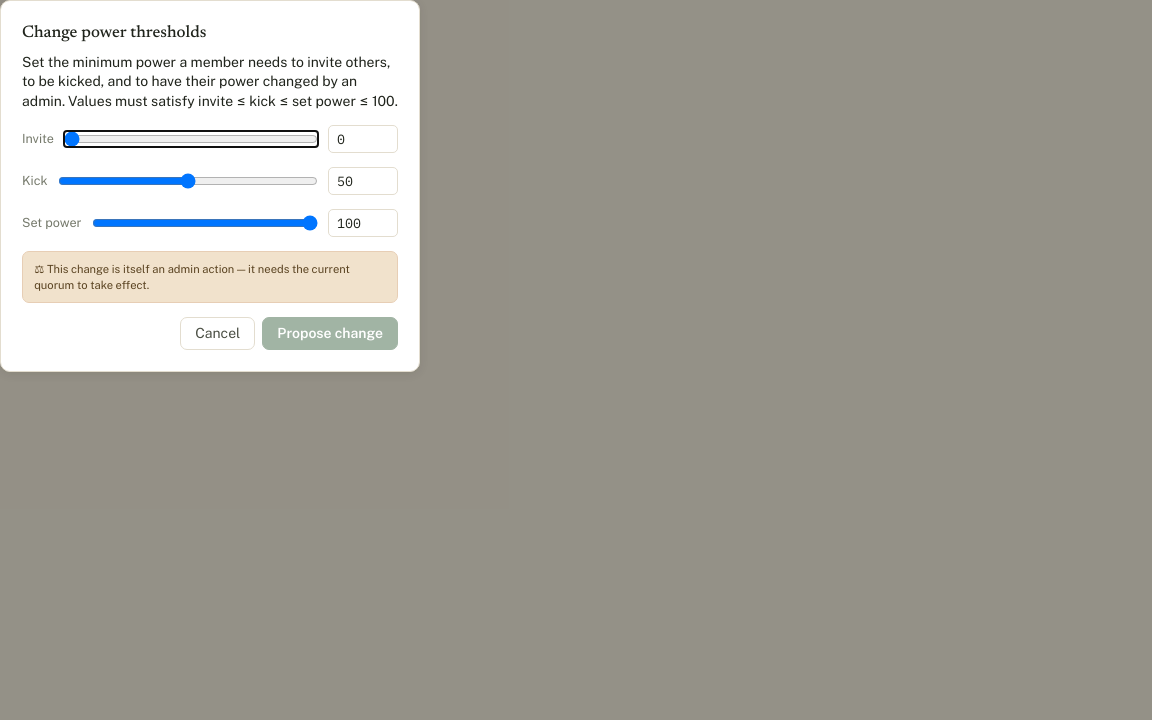
ChangeThresholdsDialog › slider_and_number_input_sync_bidirectionally
# Change slider → number input updates.
Set the slider named "Invite threshold slider" to "10" at (96, 139), box [64,131,318,147]
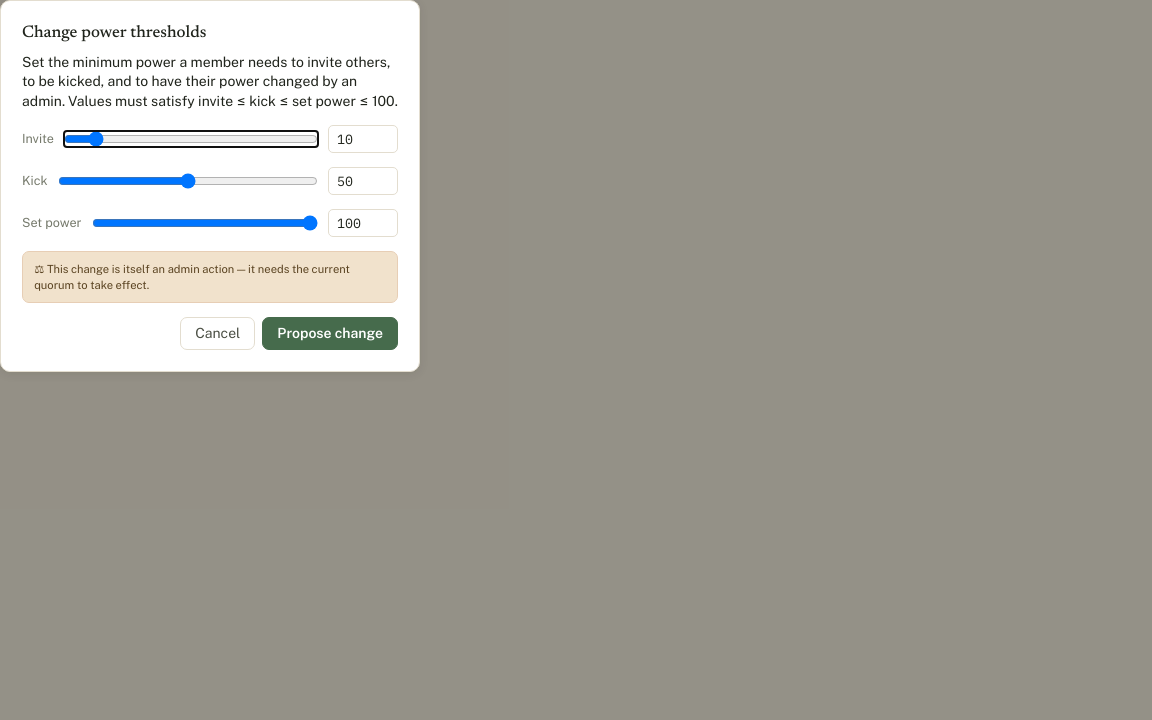
Check: the number field named "Invite threshold number" holds "10"
# Change number input → slider updates.
Replace the text in the number field named "Invite threshold number" with "20" at (363, 139), box [328,125,398,153]
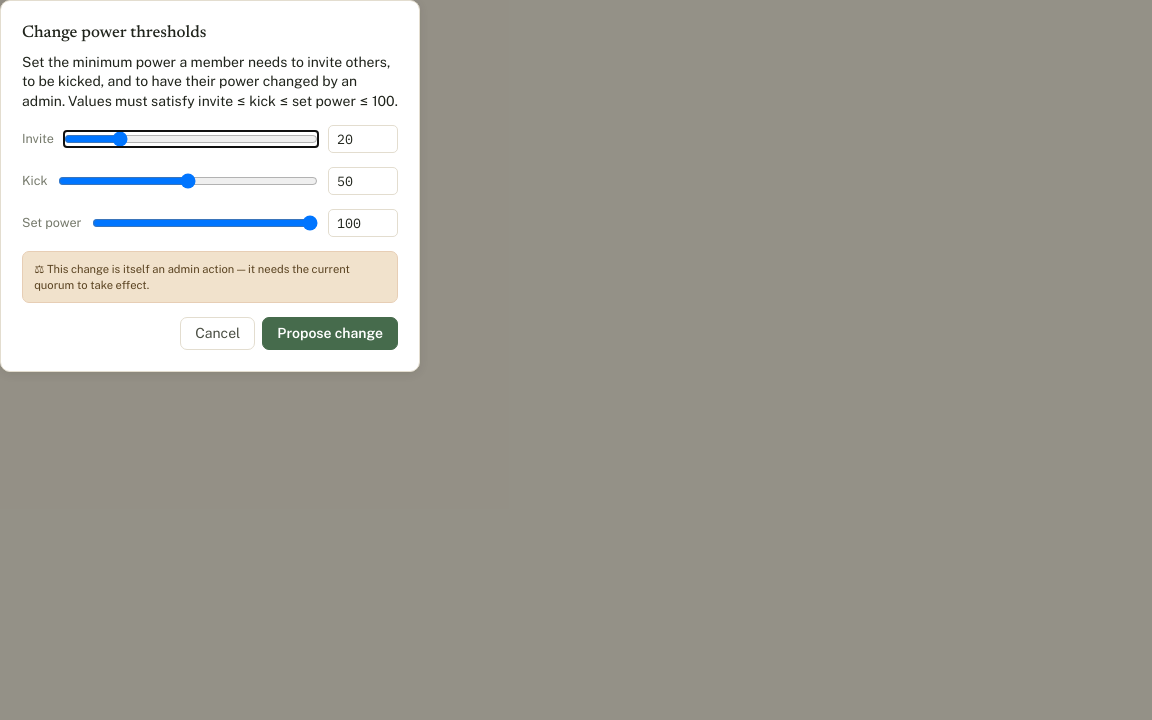
Check: the slider named "Invite threshold slider" holds "20", box [64,131,318,147]
